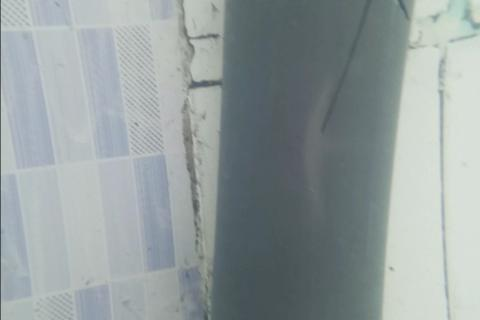keretakan: (320, 0, 371, 133), (395, 0, 411, 22)
